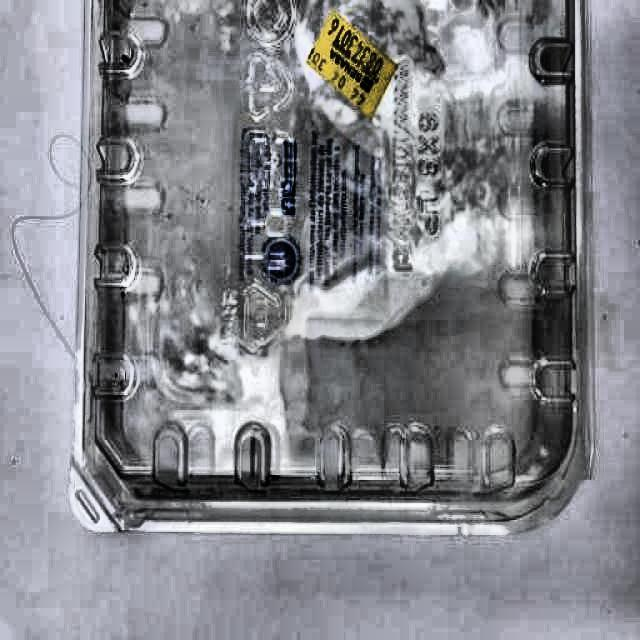plastic: (68, 0, 602, 543)
